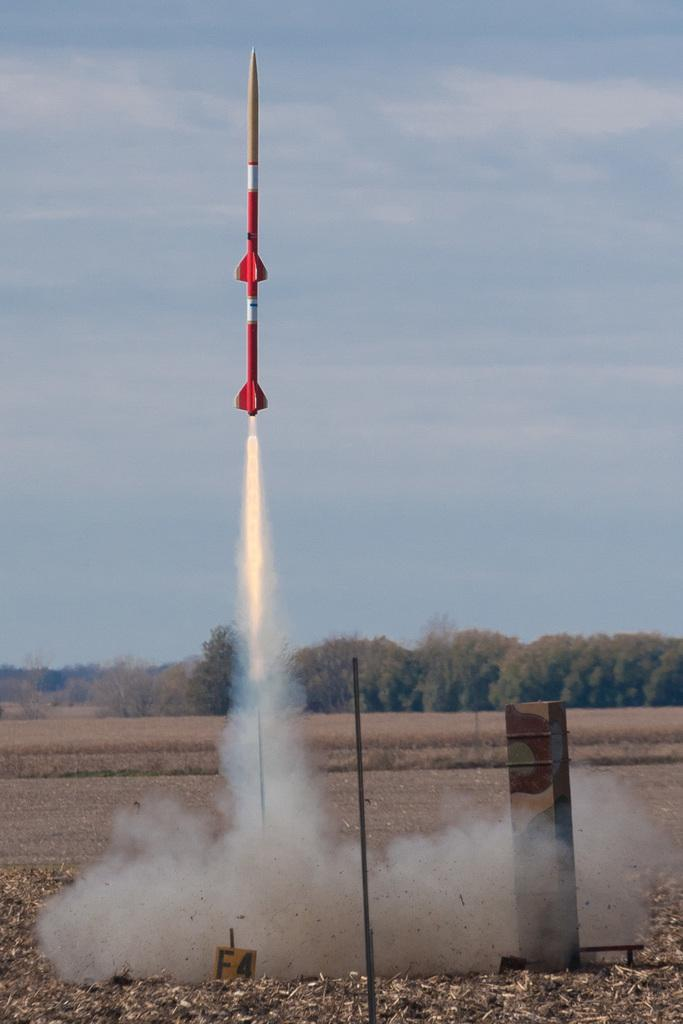Missile: (235, 44, 269, 417)
